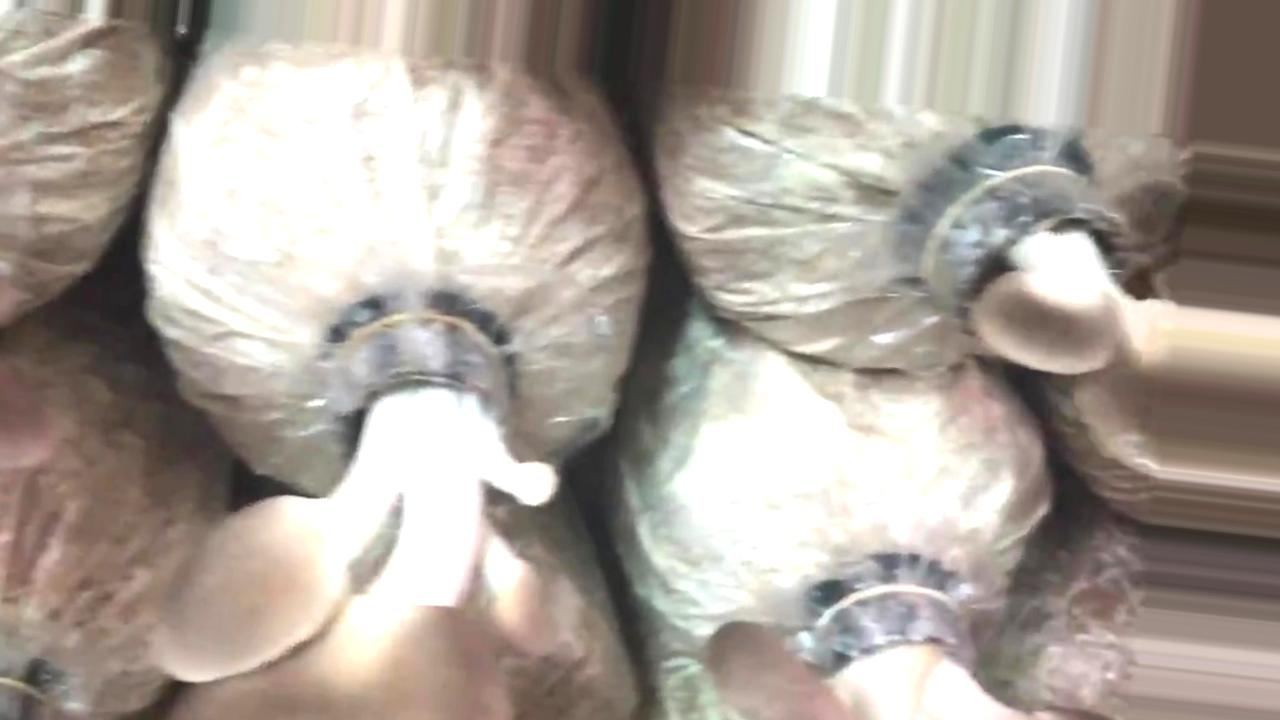nam: (162, 316, 580, 720), (973, 168, 1280, 488), (698, 582, 996, 720)
